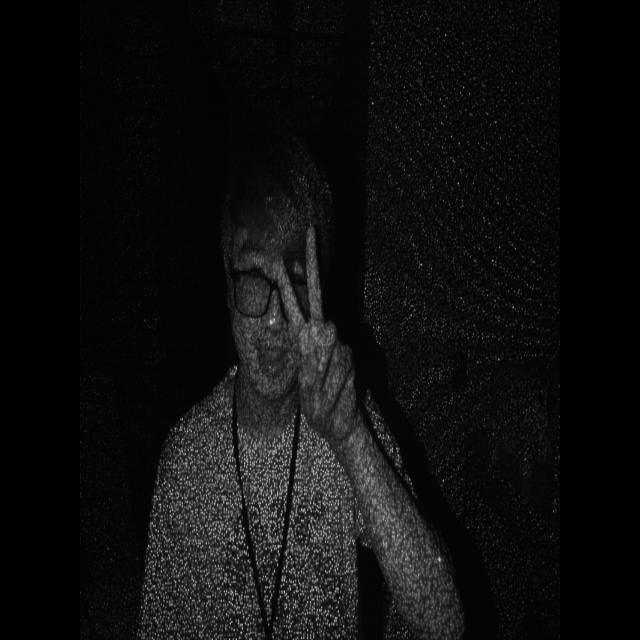V: (270, 208, 368, 454)
